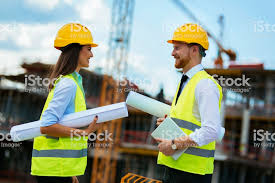helmet: (50, 23, 102, 48), (168, 25, 212, 50)
vest: (34, 75, 88, 175), (161, 76, 217, 170)
